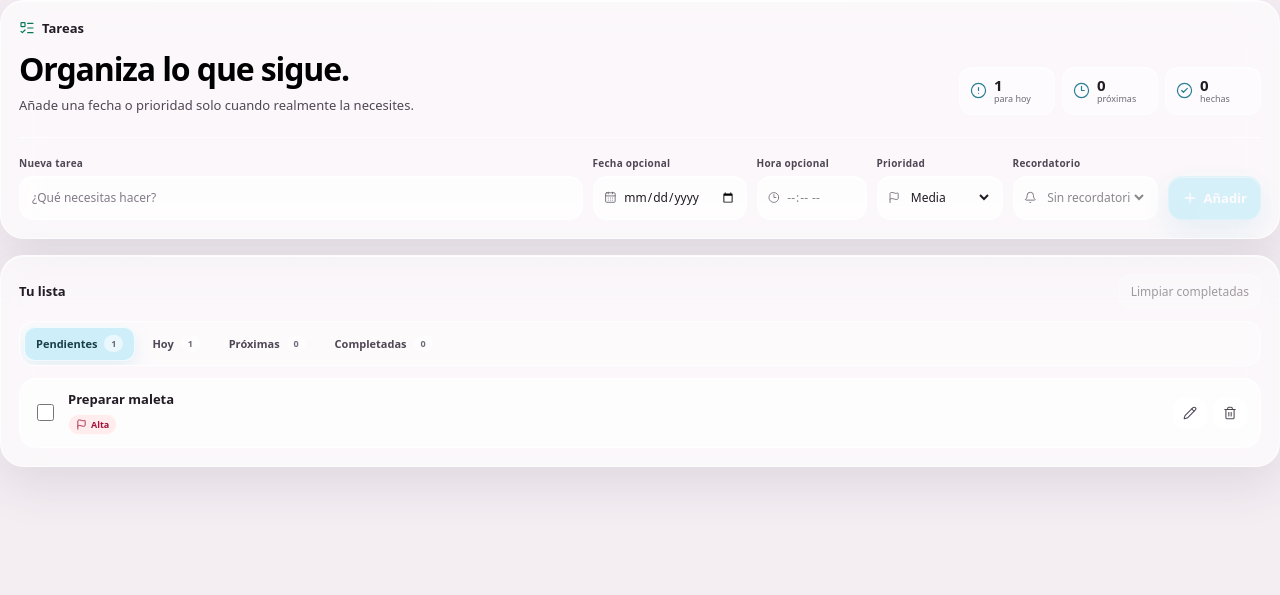
Test: Tareas › edita el nombre, la fecha y la prioridad
This screenshot has width=1280, height=595.
Click the button named "Editar Preparar maleta" at point(1190, 413), box top-left (1173, 398), bottom-right (1207, 428)
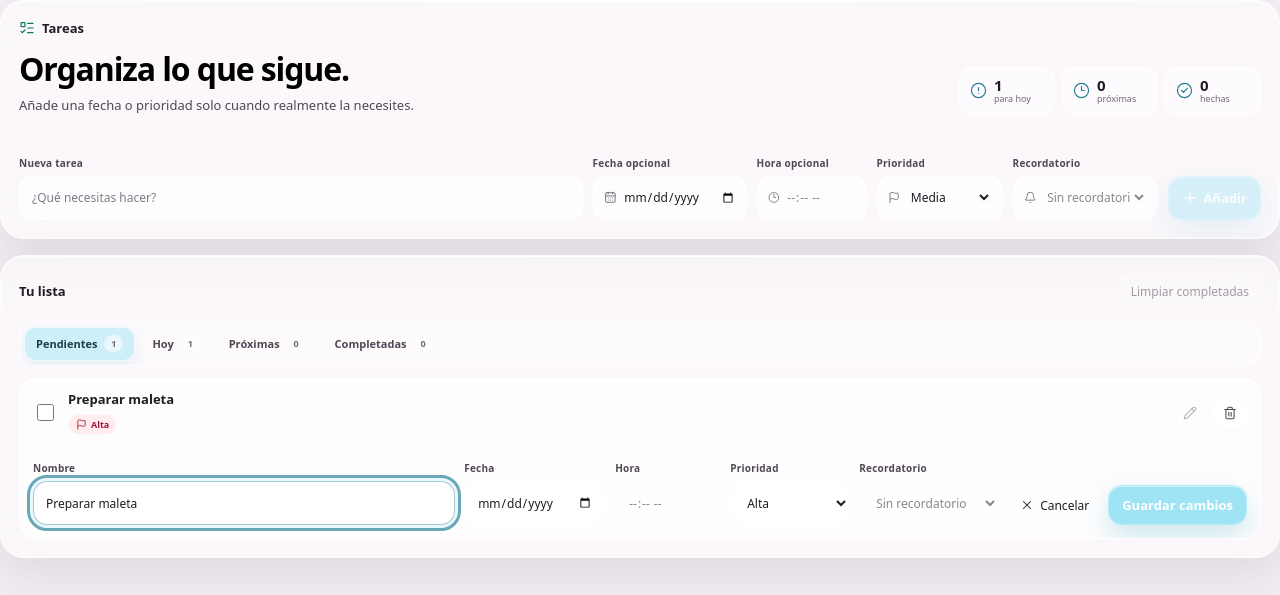
Replace the text in the field named "Editar nombre de Preparar maleta" with "Preparar equipaje" at point(244, 503), box top-left (33, 481), bottom-right (455, 525)
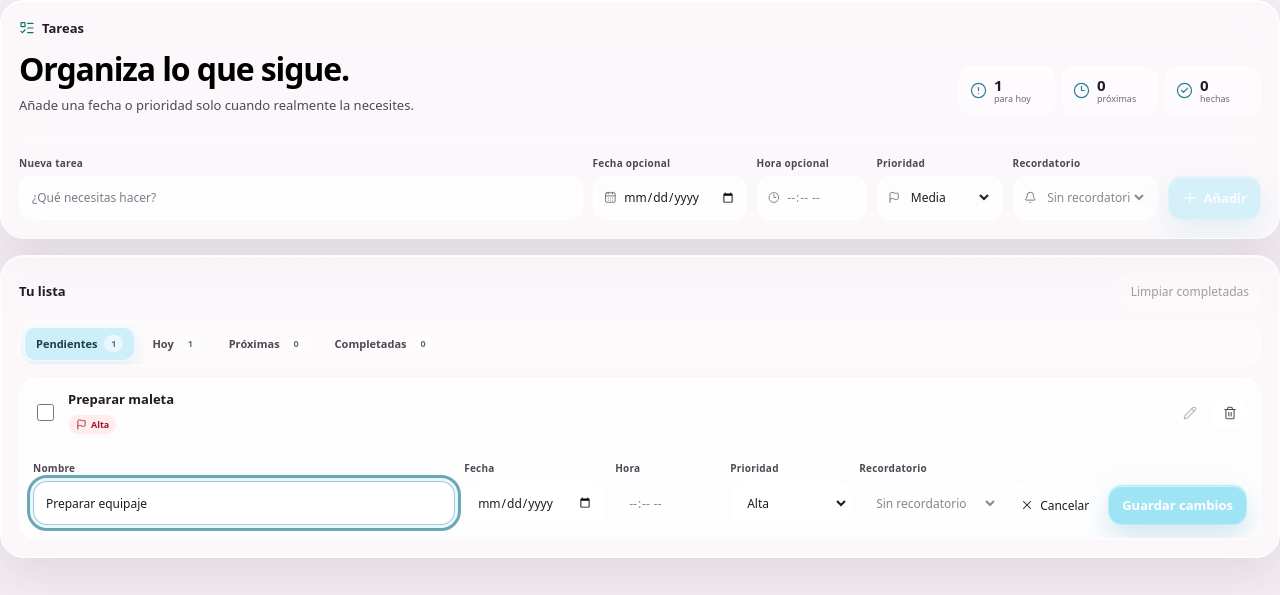
Type "2026-07-30" into the date field named "Editar fecha de Preparar maleta" at point(535, 503), box top-left (464, 481), bottom-right (606, 525)
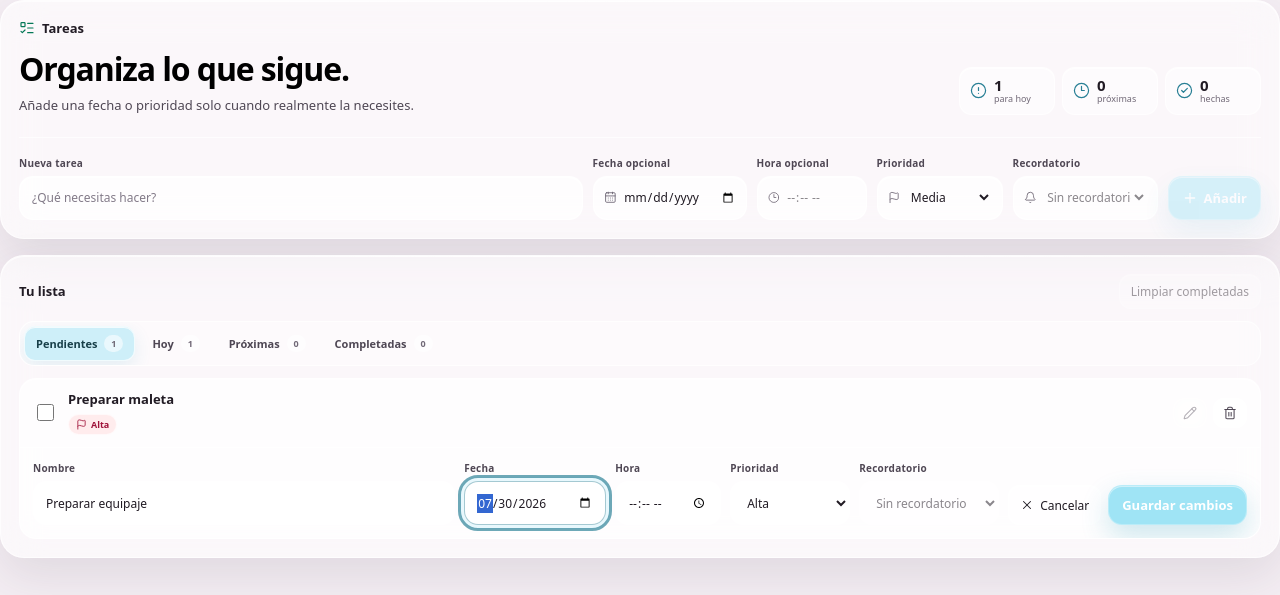
Select "Baja" in the dropdown named "Editar prioridad de Preparar maleta" at point(790, 503), box top-left (730, 481), bottom-right (850, 525)
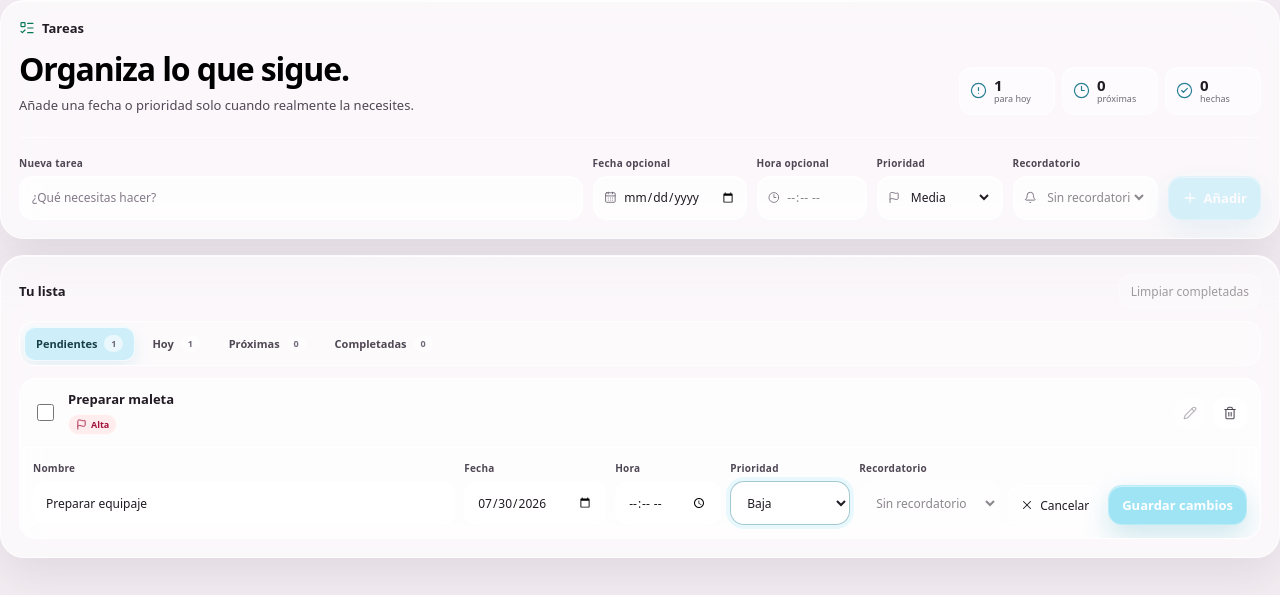
Click the button "Guardar cambios" at point(1178, 505), box top-left (1108, 485), bottom-right (1247, 525)
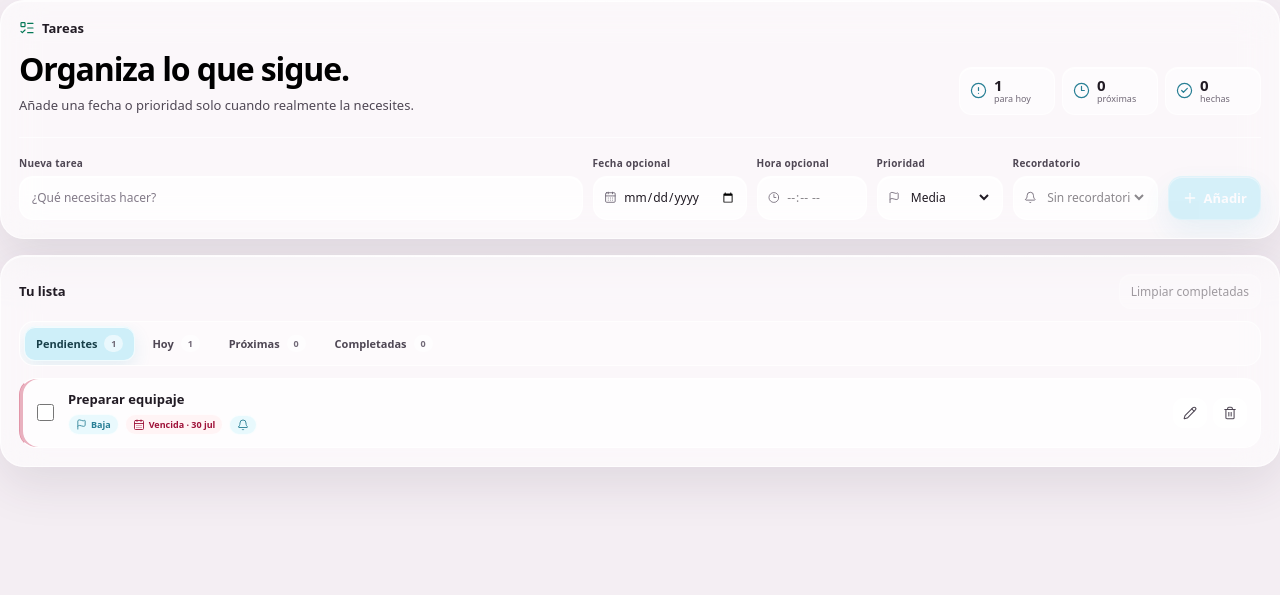
Expected: the text "Preparar equipaje" is shown, top-left (68, 390), bottom-right (184, 408)
Expected: the text "Baja" is shown, top-left (68, 414), bottom-right (119, 435)
